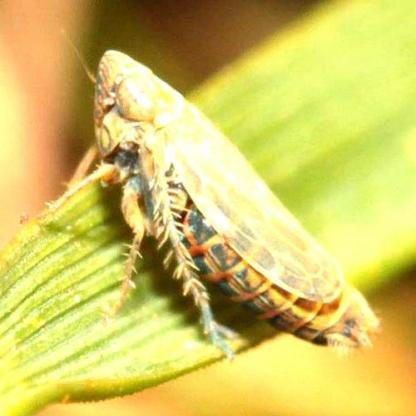green-leafhopper: (24, 51, 385, 360)
